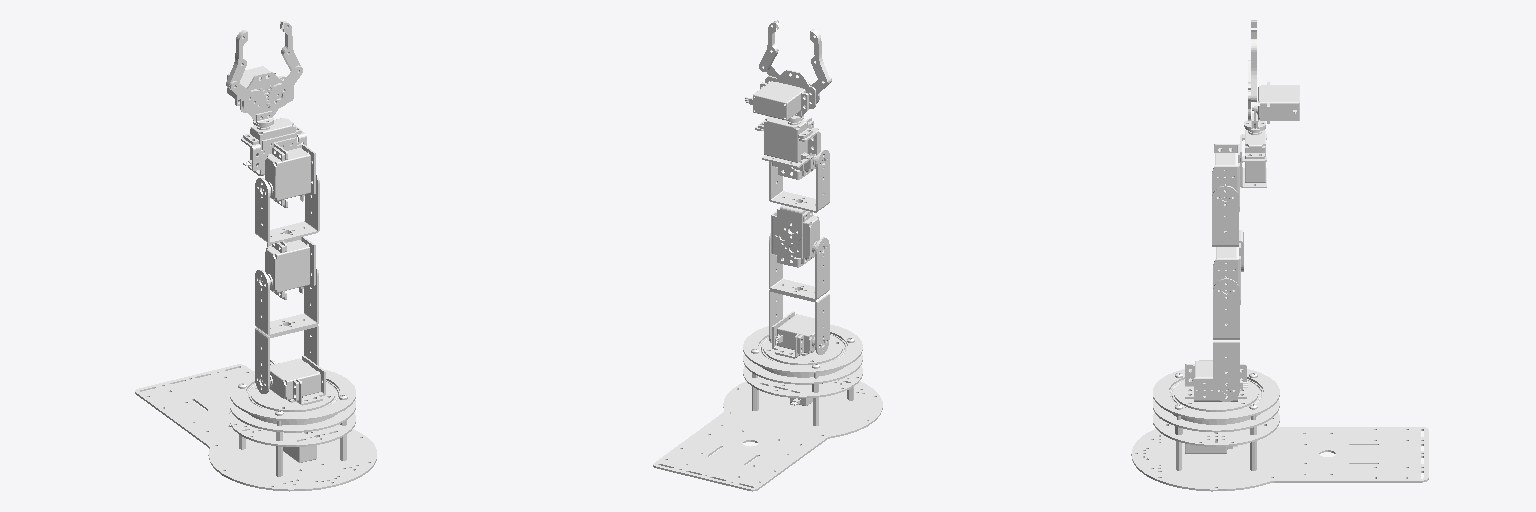
robot.urdf — xrobot:
<robot
  name="xrobot">
  <link
    name="base_link">
    <inertial>
      <origin
        xyz="0.0292502890665502 -0.178648801106571 0.0263512029302801"
        rpy="0 0 0" />
      <mass
        value="0.572815782772731" />
      <inertia
        ixx="0.000259349430323028"
        ixy="2.66244067148391E-13"
        ixz="-1.85201162809901E-13"
        iyy="0.000106356896106291"
        iyz="0.000100551527226304"
        izz="0.000169028677854162" />
    </inertial>
    <visual>
      <origin
        xyz="0 0 0"
        rpy="0 0 0" />
      <geometry>
        <mesh
          filename="package://xrobot/meshes/base_link.STL" />
      </geometry>
      <material
        name="">
        <color
          rgba="1 1 1 1" />
      </material>
    </visual>
    <collision>
      <origin
        xyz="0 0 0"
        rpy="0 0 0" />
      <geometry>
        <mesh
          filename="package://xrobot/meshes/base_link.STL" />
      </geometry>
    </collision>
  </link>
  <link
    name="link1">
    <inertial>
      <origin
        xyz="0.000447016246568756 0.00039635290899287 -0.0208005509059673"
        rpy="0 0 0" />
      <mass
        value="0.3080393899360045" />
      <inertia
        ixx="6.42193242103214E-06"
        ixy="-1.27097151646603E-08"
        ixz="-1.80700954506609E-07"
        iyy="6.92729489609466E-06"
        iyz="2.08993863386814E-08"
        izz="5.0631081327756E-07" />
    </inertial>
    <visual>
      <origin
        xyz="0 0 0"
        rpy="0 0 0" />
      <geometry>
        <mesh
          filename="package://xrobot/meshes/link1.STL" />
      </geometry>
      <material
        name="">
        <color
          rgba="1 1 1 1" />
      </material>
    </visual>
    <collision>
      <origin
        xyz="0 0 0"
        rpy="0 0 0" />
      <geometry>
        <mesh
          filename="package://xrobot/meshes/link1.STL" />
      </geometry>
    </collision>
  </link>
  <joint
    name="joint1"
    type="revolute">
    <origin
      xyz="0.02925 -0.19971 0.051"
      rpy="3.1416 0 0" />
    <parent
      link="base_link" />
    <child
      link="link1" />
    <axis
      xyz="0 0 1" />
    <limit
      lower="-3.14"
      upper="3.14"
      effort="100"
      velocity="1" />
  </joint>
  <link
    name="link2">
    <inertial>
      <origin
        xyz="1.38777878078145E-16 -0.0495614950731298 0.0238649956179246"
        rpy="0 0 0" />
      <mass
        value="0.0069994797251937" />
      <inertia
        ixx="9.8891754215374E-06"
        ixy="-2.81215621363918E-20"
        ixz="1.19279858350565E-20"
        iyy="4.4509372117766E-07"
        iyz="9.56263472768032E-07"
        izz="9.44408170035974E-06" />
    </inertial>
    <visual>
      <origin
        xyz="0 0 0"
        rpy="0 0 0" />
      <geometry>
        <mesh
          filename="package://xrobot/meshes/link2.STL" />
      </geometry>
      <material
        name="">
        <color
          rgba="1 1 1 1" />
      </material>
    </visual>
    <collision>
      <origin
        xyz="0 0 0"
        rpy="0 0 0" />
      <geometry>
        <mesh
          filename="package://xrobot/meshes/link2.STL" />
      </geometry>
    </collision>
  </link>
  <joint
    name="joint2"
    type="revolute">
    <origin
      xyz="-0.026 -0.0093623 -0.029"
      rpy="1.5708 0 1.5708" />
    <parent
      link="link1" />
    <child
      link="link2" />
    <axis
      xyz="0 0 1" />
    <limit
      lower="-3.14"
      upper="3.14"
      effort="100"
      velocity="1" />
  </joint>
  <link
    name="link3">
    <inertial>
      <origin
        xyz="0.00121857829689442 -0.020136005738826 -0.0259121615749935"
        rpy="0 0 0" />
      <mass
        value="0.0092429864623639" />
      <inertia
        ixx="2.28264243613525E-05"
        ixy="-4.58799806953608E-07"
        ixz="3.8935227406194E-07"
        iyy="1.53617796306787E-06"
        iyz="2.63577384017472E-07"
        izz="2.22944242031796E-05" />
    </inertial>
    <visual>
      <origin
        xyz="0 0 0"
        rpy="0 0 0" />
      <geometry>
        <mesh
          filename="package://xrobot/meshes/link3.STL" />
      </geometry>
      <material
        name="">
        <color
          rgba="1 1 1 1" />
      </material>
    </visual>
    <collision>
      <origin
        xyz="0 0 0"
        rpy="0 0 0" />
      <geometry>
        <mesh
          filename="package://xrobot/meshes/link3.STL" />
      </geometry>
    </collision>
  </link>
  <joint
    name="joint3"
    type="revolute">
    <origin
      xyz="0 -0.104 0"
      rpy="3.1416 1E-15 -3.1416" />
    <parent
      link="link2" />
    <child
      link="link3" />
    <axis
      xyz="0 0 -1" />
    <limit
      lower="-3.14"
      upper="3.14"
      effort="100"
      velocity="1" />
  </joint>
  <link
    name="link4">
    <inertial>
      <origin
        xyz="-0.0138537781432201 -0.019593553101695 0.0254900603887009"
        rpy="0 0 0" />
      <mass
        value="0.0063258518316471" />
      <inertia
        ixx="9.4187405427334E-06"
        ixy="-1.0309341320149E-05"
        ixz="-2.8447464915813E-07"
        iyy="1.42525755322077E-05"
        iyz="-3.27430668795753E-07"
        izz="2.15543313078854E-05" />
    </inertial>
    <visual>
      <origin
        xyz="0 0 0"
        rpy="0 0 0" />
      <geometry>
        <mesh
          filename="package://xrobot/meshes/link4.STL" />
      </geometry>
      <material
        name="">
        <color
          rgba="1 1 1 1" />
      </material>
    </visual>
    <collision>
      <origin
        xyz="0 0 0"
        rpy="0 0 0" />
      <geometry>
        <mesh
          filename="package://xrobot/meshes/link4.STL" />
      </geometry>
    </collision>
  </link>
  <joint
    name="joint4"
    type="revolute">
    <origin
      xyz="-0.001 -0.0965 0"
      rpy="-3.1416 -2E-15 -3.1416" />
    <parent
      link="link3" />
    <child
      link="link4" />
    <axis
      xyz="0 0 1" />
    <limit
      lower="-3.14"
      upper="3.14"
      effort="100"
      velocity="1" />
  </joint>
  <link
    name="link5">
    <inertial>
      <origin
        xyz="0.00388024415039572 0.0191733087894507 0.0248820232279329"
        rpy="0 0 0" />
      <mass
        value="0.0070354482255755" />
      <inertia
        ixx="3.09590716584593E-06"
        ixy="-2.69265113020214E-07"
        ixz="-1.60660619656558E-07"
        iyy="1.00181294933733E-06"
        iyz="-7.93866455643796E-07"
        izz="2.17341885790538E-06" />
    </inertial>
    <visual>
      <origin
        xyz="0 0 0"
        rpy="0 0 0" />
      <geometry>
        <mesh
          filename="package://xrobot/meshes/link5.STL" />
      </geometry>
      <material
        name="">
        <color
          rgba="1 1 1 1" />
      </material>
    </visual>
    <collision>
      <origin
        xyz="0 0 0"
        rpy="0 0 0" />
      <geometry>
        <mesh
          filename="package://xrobot/meshes/link5.STL" />
      </geometry>
    </collision>
  </link>
  <joint
    name="joint5"
    type="revolute">
    <origin
      xyz="-0.028 -0.0565 0.015"
      rpy="1.5708 -1.5708 0" />
    <parent
      link="link4" />
    <child
      link="link5" />
    <axis
      xyz="0 0 -1" />
    <limit
      lower="-3.14"
      upper="3.14"
      effort="100"
      velocity="1" />
  </joint>
  <link
    name="link6">
    <inertial>
      <origin
        xyz="0.0101389216911046 -0.0265895214562799 0.000106345188996604"
        rpy="0 0 0" />
      <mass
        value="0.00470245908475118" />
      <inertia
        ixx="1.57344908677699E-06"
        ixy="4.24373033709471E-07"
        ixz="-5.19250825344558E-08"
        iyy="1.39379774569395E-07"
        iyz="1.89682977766353E-07"
        izz="1.66641071743274E-06" />
    </inertial>
    <visual>
      <origin
        xyz="0 0 0"
        rpy="0 0 0" />
      <geometry>
        <mesh
          filename="package://xrobot/meshes/link6.STL" />
      </geometry>
      <material
        name="">
        <color
          rgba="1 1 1 1" />
      </material>
    </visual>
    <collision>
      <origin
        xyz="0 0 0"
        rpy="0 0 0" />
      <geometry>
        <mesh
          filename="package://xrobot/meshes/link6.STL" />
      </geometry>
    </collision>
  </link>
  <joint
    name="joint6"
    type="revolute">
    <origin
      xyz="0.013997 -0.0030157 0.026"
      rpy="-1.5708 1.3997E-14 -0.001125" />
    <parent
      link="link5" />
    <child
      link="link6" />
    <axis
      xyz="0 0 1" />
    <limit
      lower="-3.14"
      upper="3.14"
      effort="100"
      velocity="1" />
  </joint>
  <link
    name="link7">
    <inertial>
      <origin
        xyz="-0.0101103012994627 -0.0258764173342183 0.00103644564225763"
        rpy="0 0 0" />
      <mass
        value="0.00483204978171178" />
      <inertia
        ixx="1.66006805235176E-06"
        ixy="-4.56279044694453E-07"
        ixz="5.53399185862654E-08"
        iyy="1.51321447574823E-07"
        iyz="1.98422947049922E-07"
        izz="1.76325794594412E-06" />
    </inertial>
    <visual>
      <origin
        xyz="0 0 0"
        rpy="0 0 0" />
      <geometry>
        <mesh
          filename="package://xrobot/meshes/link7.STL" />
      </geometry>
      <material
        name="">
        <color
          rgba="1 1 1 1" />
      </material>
    </visual>
    <collision>
      <origin
        xyz="0 0 0"
        rpy="0 0 0" />
      <geometry>
        <mesh
          filename="package://xrobot/meshes/link7.STL" />
      </geometry>
    </collision>
  </link>
  <joint
    name="joint7"
    type="revolute">
    <origin
      xyz="-0.013754 -0.0039845 0.026"
      rpy="-1.5708 1.3997E-14 -0.001125" />
    <parent
      link="link5" />
    <child
      link="link7" />
    <axis
      xyz="0 0 1" />
    <limit
      lower="-3.14"
      upper="3.14"
      effort="100"
      velocity="1" />
  </joint>
</robot>

--- Facts derived from the render (not from the file) ---
Views: 3 orthographic renders of the robot side by side, from view 1: azimuth 30°, elevation 25°; view 2: azimuth 150°, elevation 25°; view 3: azimuth 270°, elevation 25°.
Robot: xrobot — 8 links, 7 joints (7 revolute); root link base_link; default pose: every joint at zero.
Visible links, largest first — view 1: base_link, link3, link4, link2, link1, link5, link7, link6; view 2: base_link, link3, link2, link4, link1, link5, link7, link6; view 3: base_link, link2, link3, link4, link1, link5.
Link boxes in pixels (x1,y1,x2,y2): base_link: [135, 364, 376, 491]; link3: [255, 171, 319, 299]; link4: [241, 118, 315, 207]; link2: [255, 264, 318, 393]; link1: [251, 356, 334, 411]; link5: [227, 66, 293, 127]; link7: [226, 30, 267, 113]; link6: [266, 21, 302, 108]; base_link: [653, 324, 882, 491]; link3: [769, 150, 829, 267]; link2: [769, 233, 829, 354]; link4: [755, 116, 823, 179]; link1: [763, 311, 842, 364]; link5: [745, 70, 815, 122]; link7: [808, 29, 831, 103]; link6: [759, 20, 780, 77]; base_link: [1131, 369, 1428, 491]; link2: [1213, 261, 1239, 401]; link3: [1212, 168, 1243, 304]; link4: [1214, 130, 1266, 211]; link1: [1174, 360, 1258, 411]; link5: [1244, 82, 1299, 132].
Bounding box of the posed robot: 0.1597 × 0.28 × 0.437 m (x, y, z).
Meshes: 8 distinct files referenced, 8 mesh visuals loaded (8 binary STL).